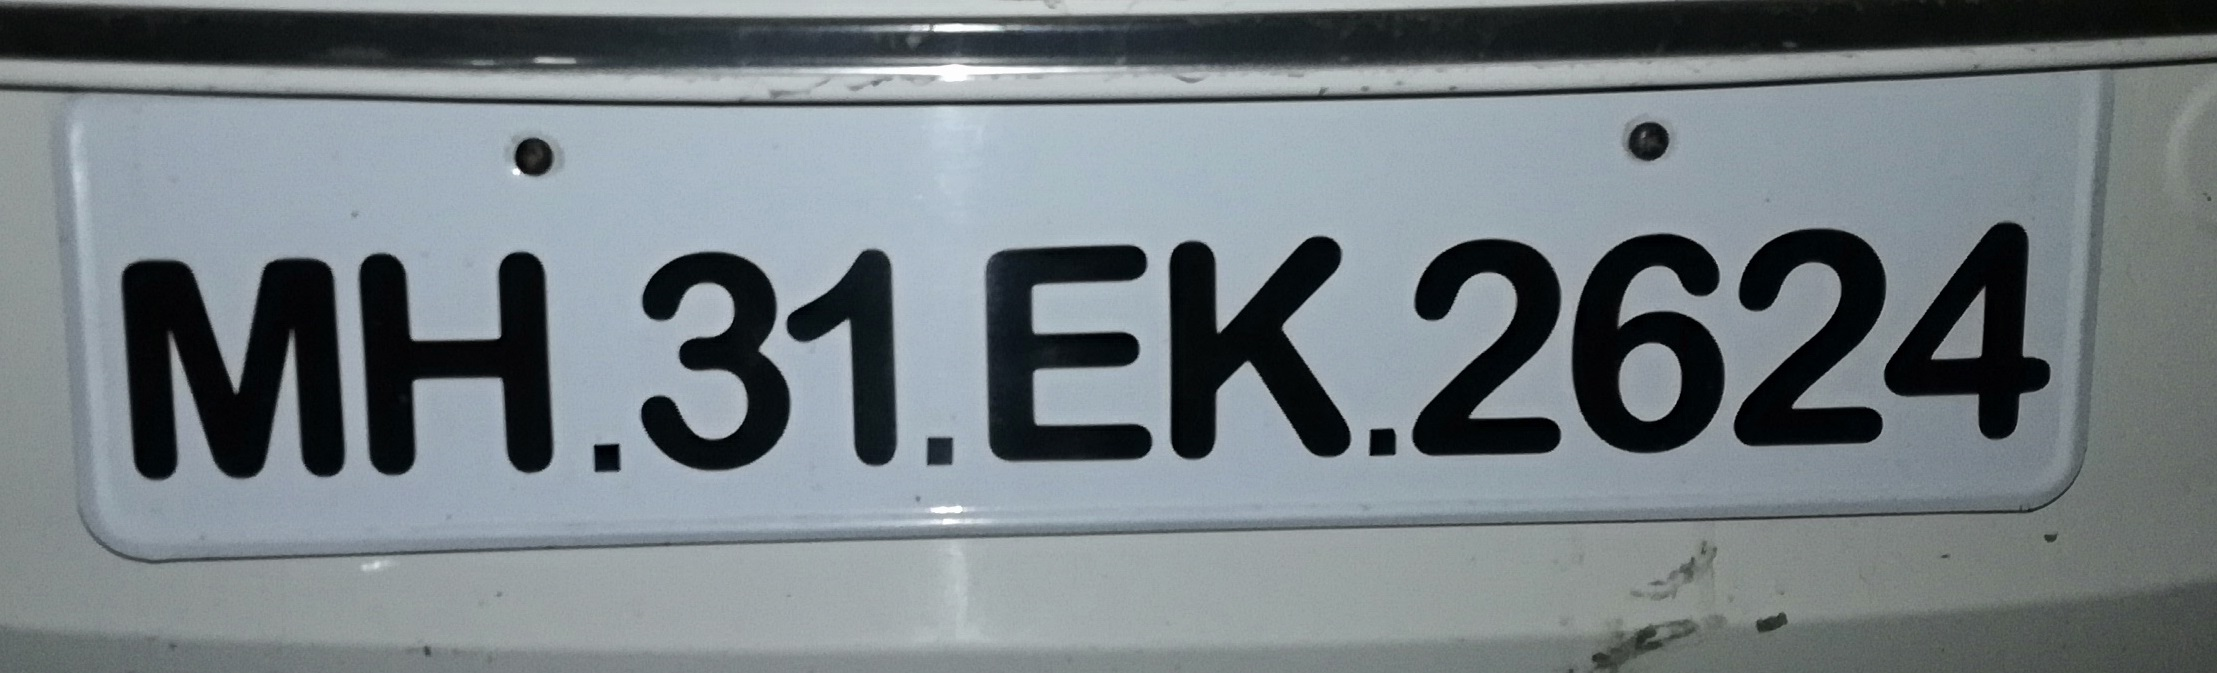numberplate: (58, 65, 2127, 574)
